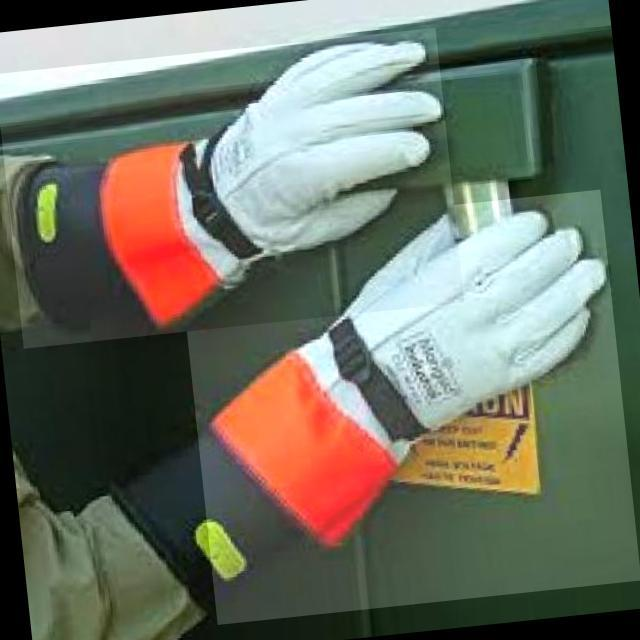Gloves: (176, 189, 640, 624), (0, 27, 463, 348)
